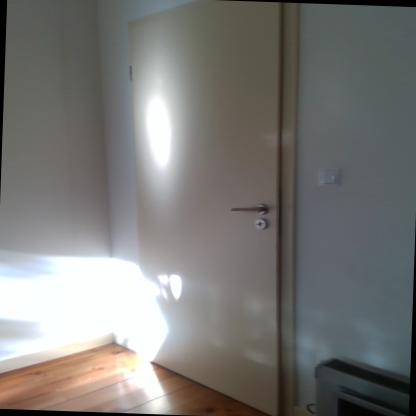closed: (110, 0, 304, 414)
